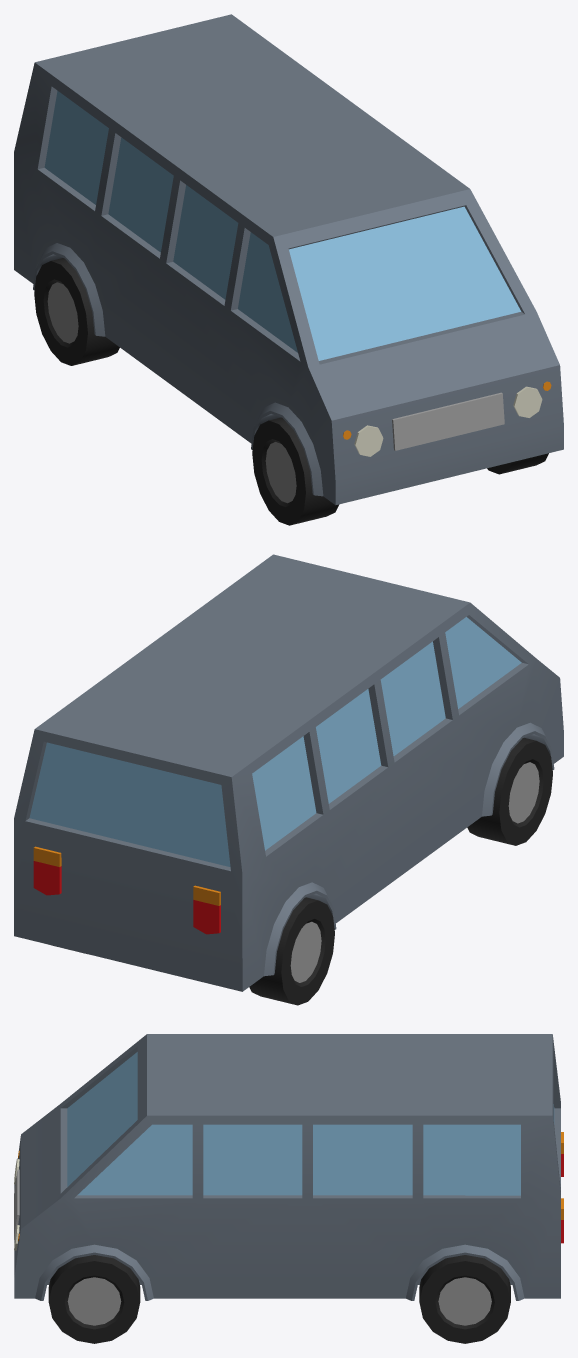
Rendered from car-minibus-silver.gltf.
The picture shows the model from 3 angles, top to bottom: view 1: azimuth 30°, elevation 25°; view 2: azimuth 150°, elevation 25°; view 3: azimuth 270°, elevation 25°; orthographic projection. The views are drawn at different scales.
Visible parts, largest first — view 1: car-minibus-silver_Cube.632; view 2: car-minibus-silver_Cube.632; view 3: car-minibus-silver_Cube.632.
Part boxes in pixels (left/top/right/bottom): car-minibus-silver_Cube.632: left=14, top=14, right=563, bottom=525; car-minibus-silver_Cube.632: left=14, top=554, right=563, bottom=1005; car-minibus-silver_Cube.632: left=14, top=1034, right=563, bottom=1343.
Bounding box in the file's own units: 1.91 × 1.89 × 4.33.
